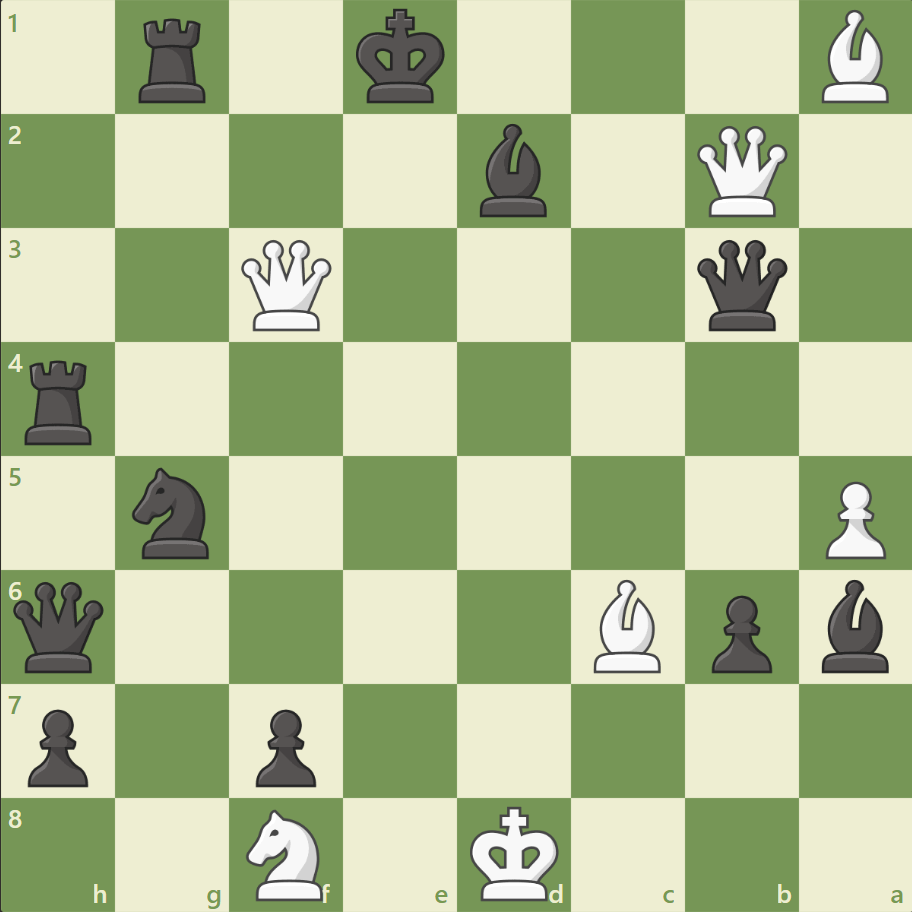B: (812, 6, 896, 109), (585, 574, 669, 676)
K: (465, 798, 565, 906)
N: (238, 802, 335, 904)
P: (815, 473, 889, 564)
Q: (691, 122, 790, 222), (237, 236, 336, 335)
b: (812, 574, 896, 676), (471, 120, 555, 222)
k: (351, 4, 451, 112)
n: (124, 461, 222, 564)
p: (247, 700, 322, 791), (20, 700, 95, 791), (701, 586, 776, 677)
q: (10, 576, 109, 676), (691, 236, 790, 335)
r: (19, 352, 102, 449), (133, 12, 215, 109)
